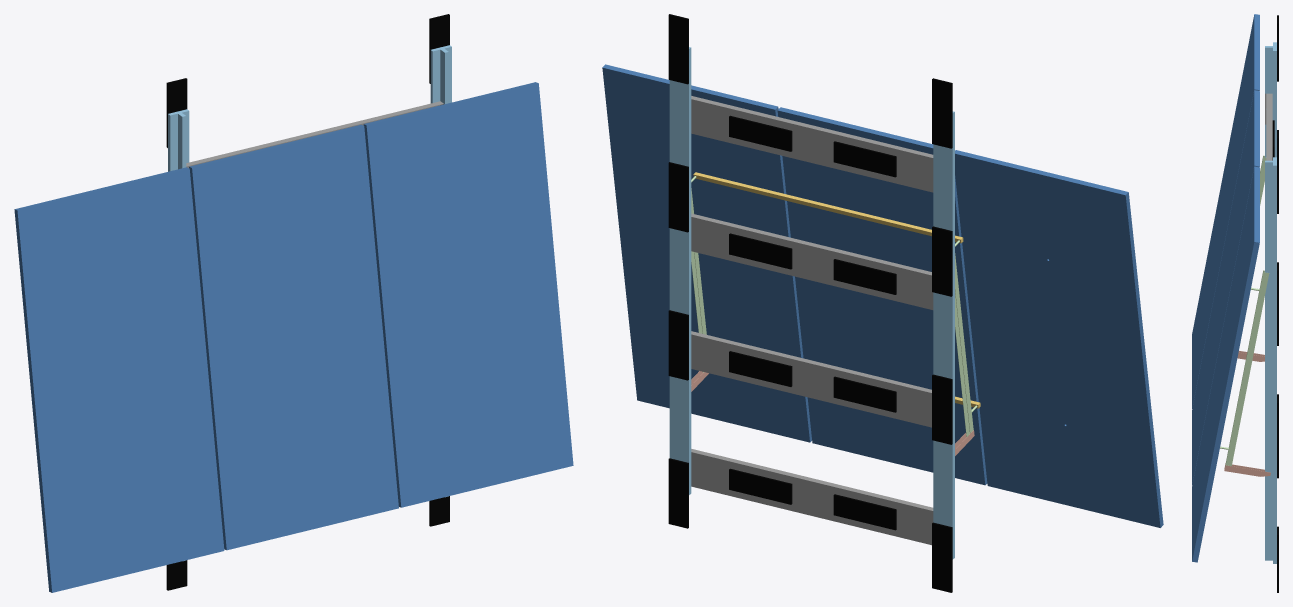
File: Assembly 1 (1).glb
The picture shows the model from 3 angles, left to right: view 1: azimuth 30°, elevation 25°; view 2: azimuth 150°, elevation 25°; view 3: azimuth 270°, elevation 25°; orthographic projection. The views are drawn at different scales.
Parts seen in each view (by area): view 1: empty_15, empty_12, empty_7, empty_16, empty_14, empty_11, empty_21, empty_9; view 2: empty_15, empty_12, empty_7, empty_11, empty_29, empty_22, empty_6, empty_14, empty_16, empty_27, empty_2, empty_8 (+16 smaller); view 3: empty_12, empty_15, empty_7, empty_14, empty_25, empty_16, empty_11, empty_10, empty_5, empty_17.
Boxes of the visible parts, x1,y1,x2,y2 form: empty_15: (14,167,224,592); empty_12: (363,82,573,507); empty_7: (189,124,398,550); empty_16: (168,109,189,561); empty_14: (430,45,451,497); empty_11: (186,101,444,167); empty_21: (166,78,187,147); empty_9: (429,14,449,83); empty_15: (955,150,1163,527); empty_12: (602,64,811,442); empty_7: (777,107,987,485); empty_11: (691,96,933,192); empty_29: (691,213,933,309); empty_22: (691,449,933,545); empty_6: (691,331,931,427); empty_14: (669,47,691,494); empty_16: (933,111,954,559); empty_27: (693,172,963,243); empty_2: (833,494,896,530); empty_8: (833,376,896,412); empty_12: (1192,166,1259,562); empty_15: (1192,14,1259,408); empty_7: (1192,90,1259,484); empty_14: (1265,157,1276,563); empty_25: (1220,270,1269,468); empty_16: (1265,42,1276,157); empty_11: (1265,93,1272,160); empty_10: (1224,463,1270,476); empty_5: (1260,155,1266,205); empty_17: (1237,350,1264,361).
Bounding box in the file's own units: 3429 × 3188 × 551.
